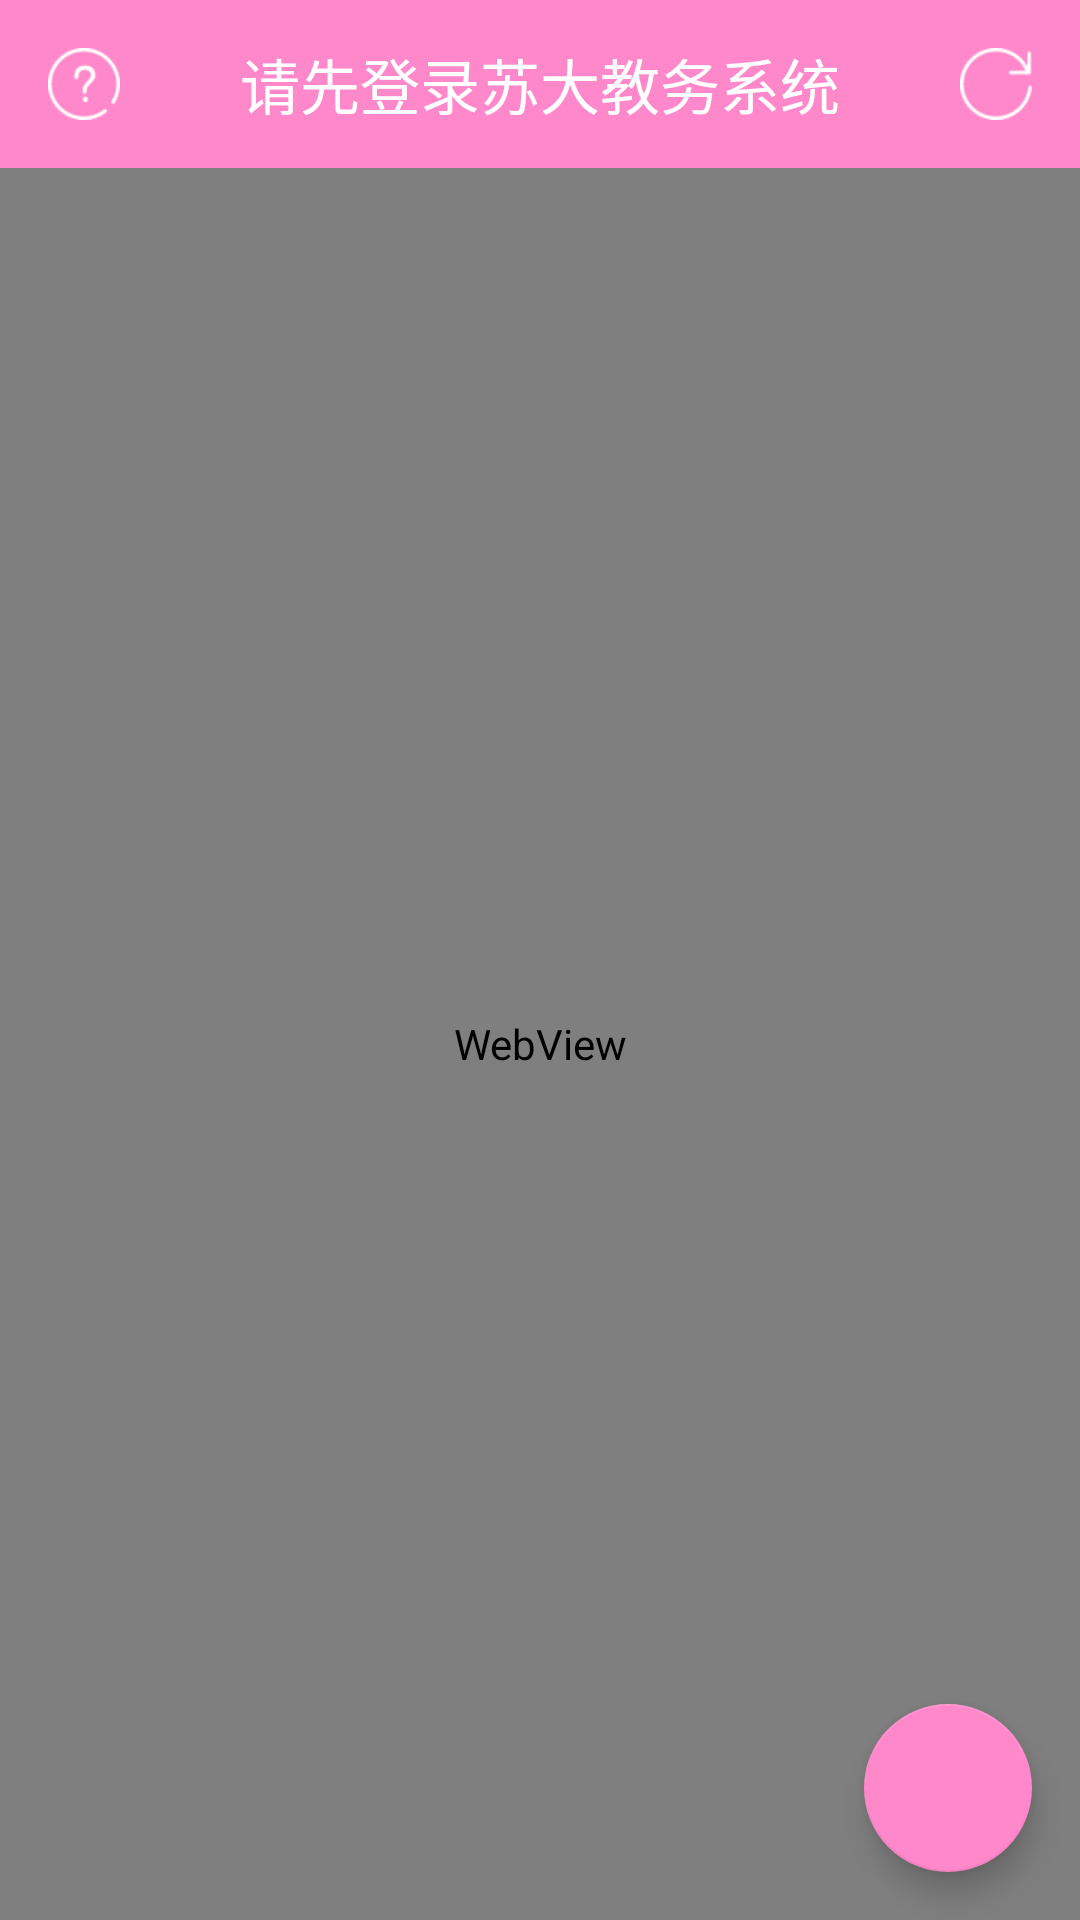

Screen size 1080×1920. Icon name, then its center in pixels as (x,y):
help: (84,84)
refresh: (996,84)
